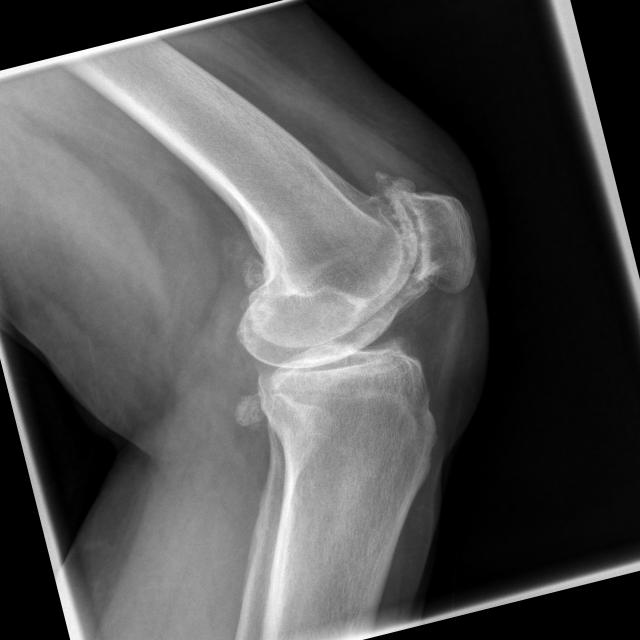Knee: (206, 159, 514, 440)
